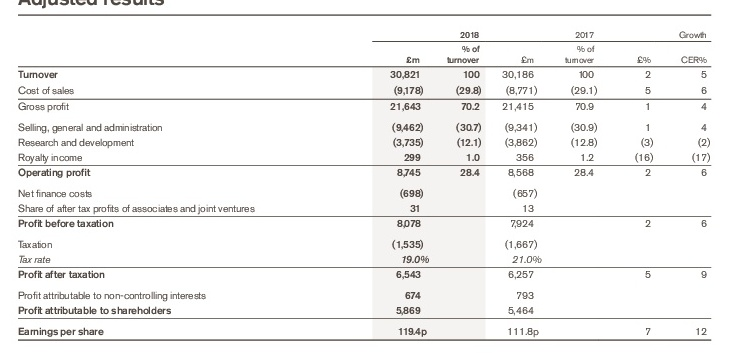table: (0, 0, 730, 361)
